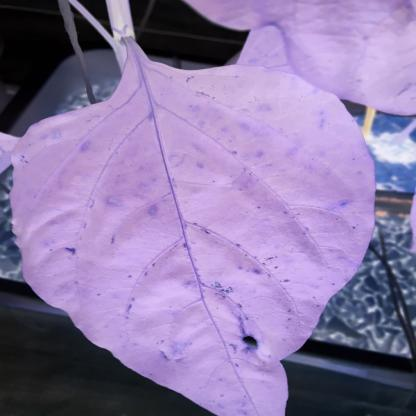bell pepper leaf: (11, 58, 382, 415)
